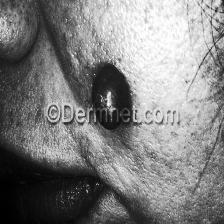Benign Marking or Mole: (90, 64, 128, 131)
